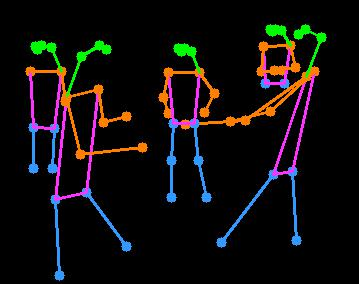normal: (149, 39, 229, 213)
